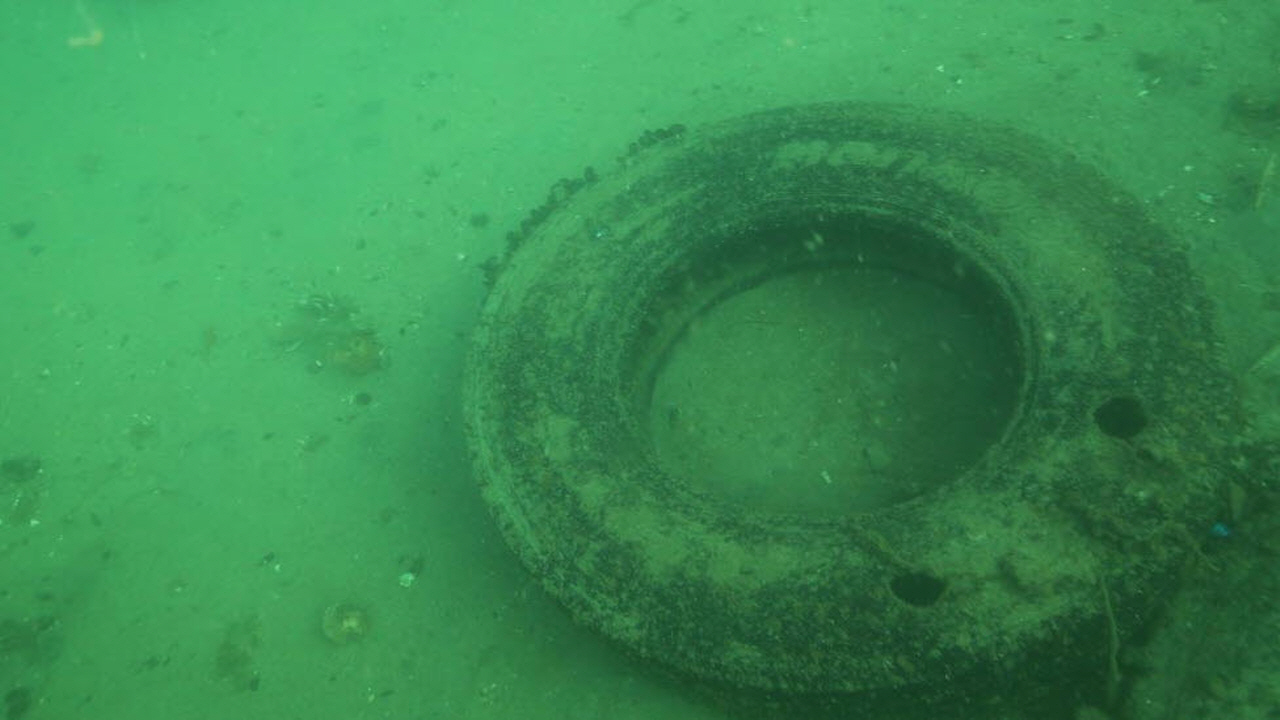tire: (461, 98, 1229, 719)
